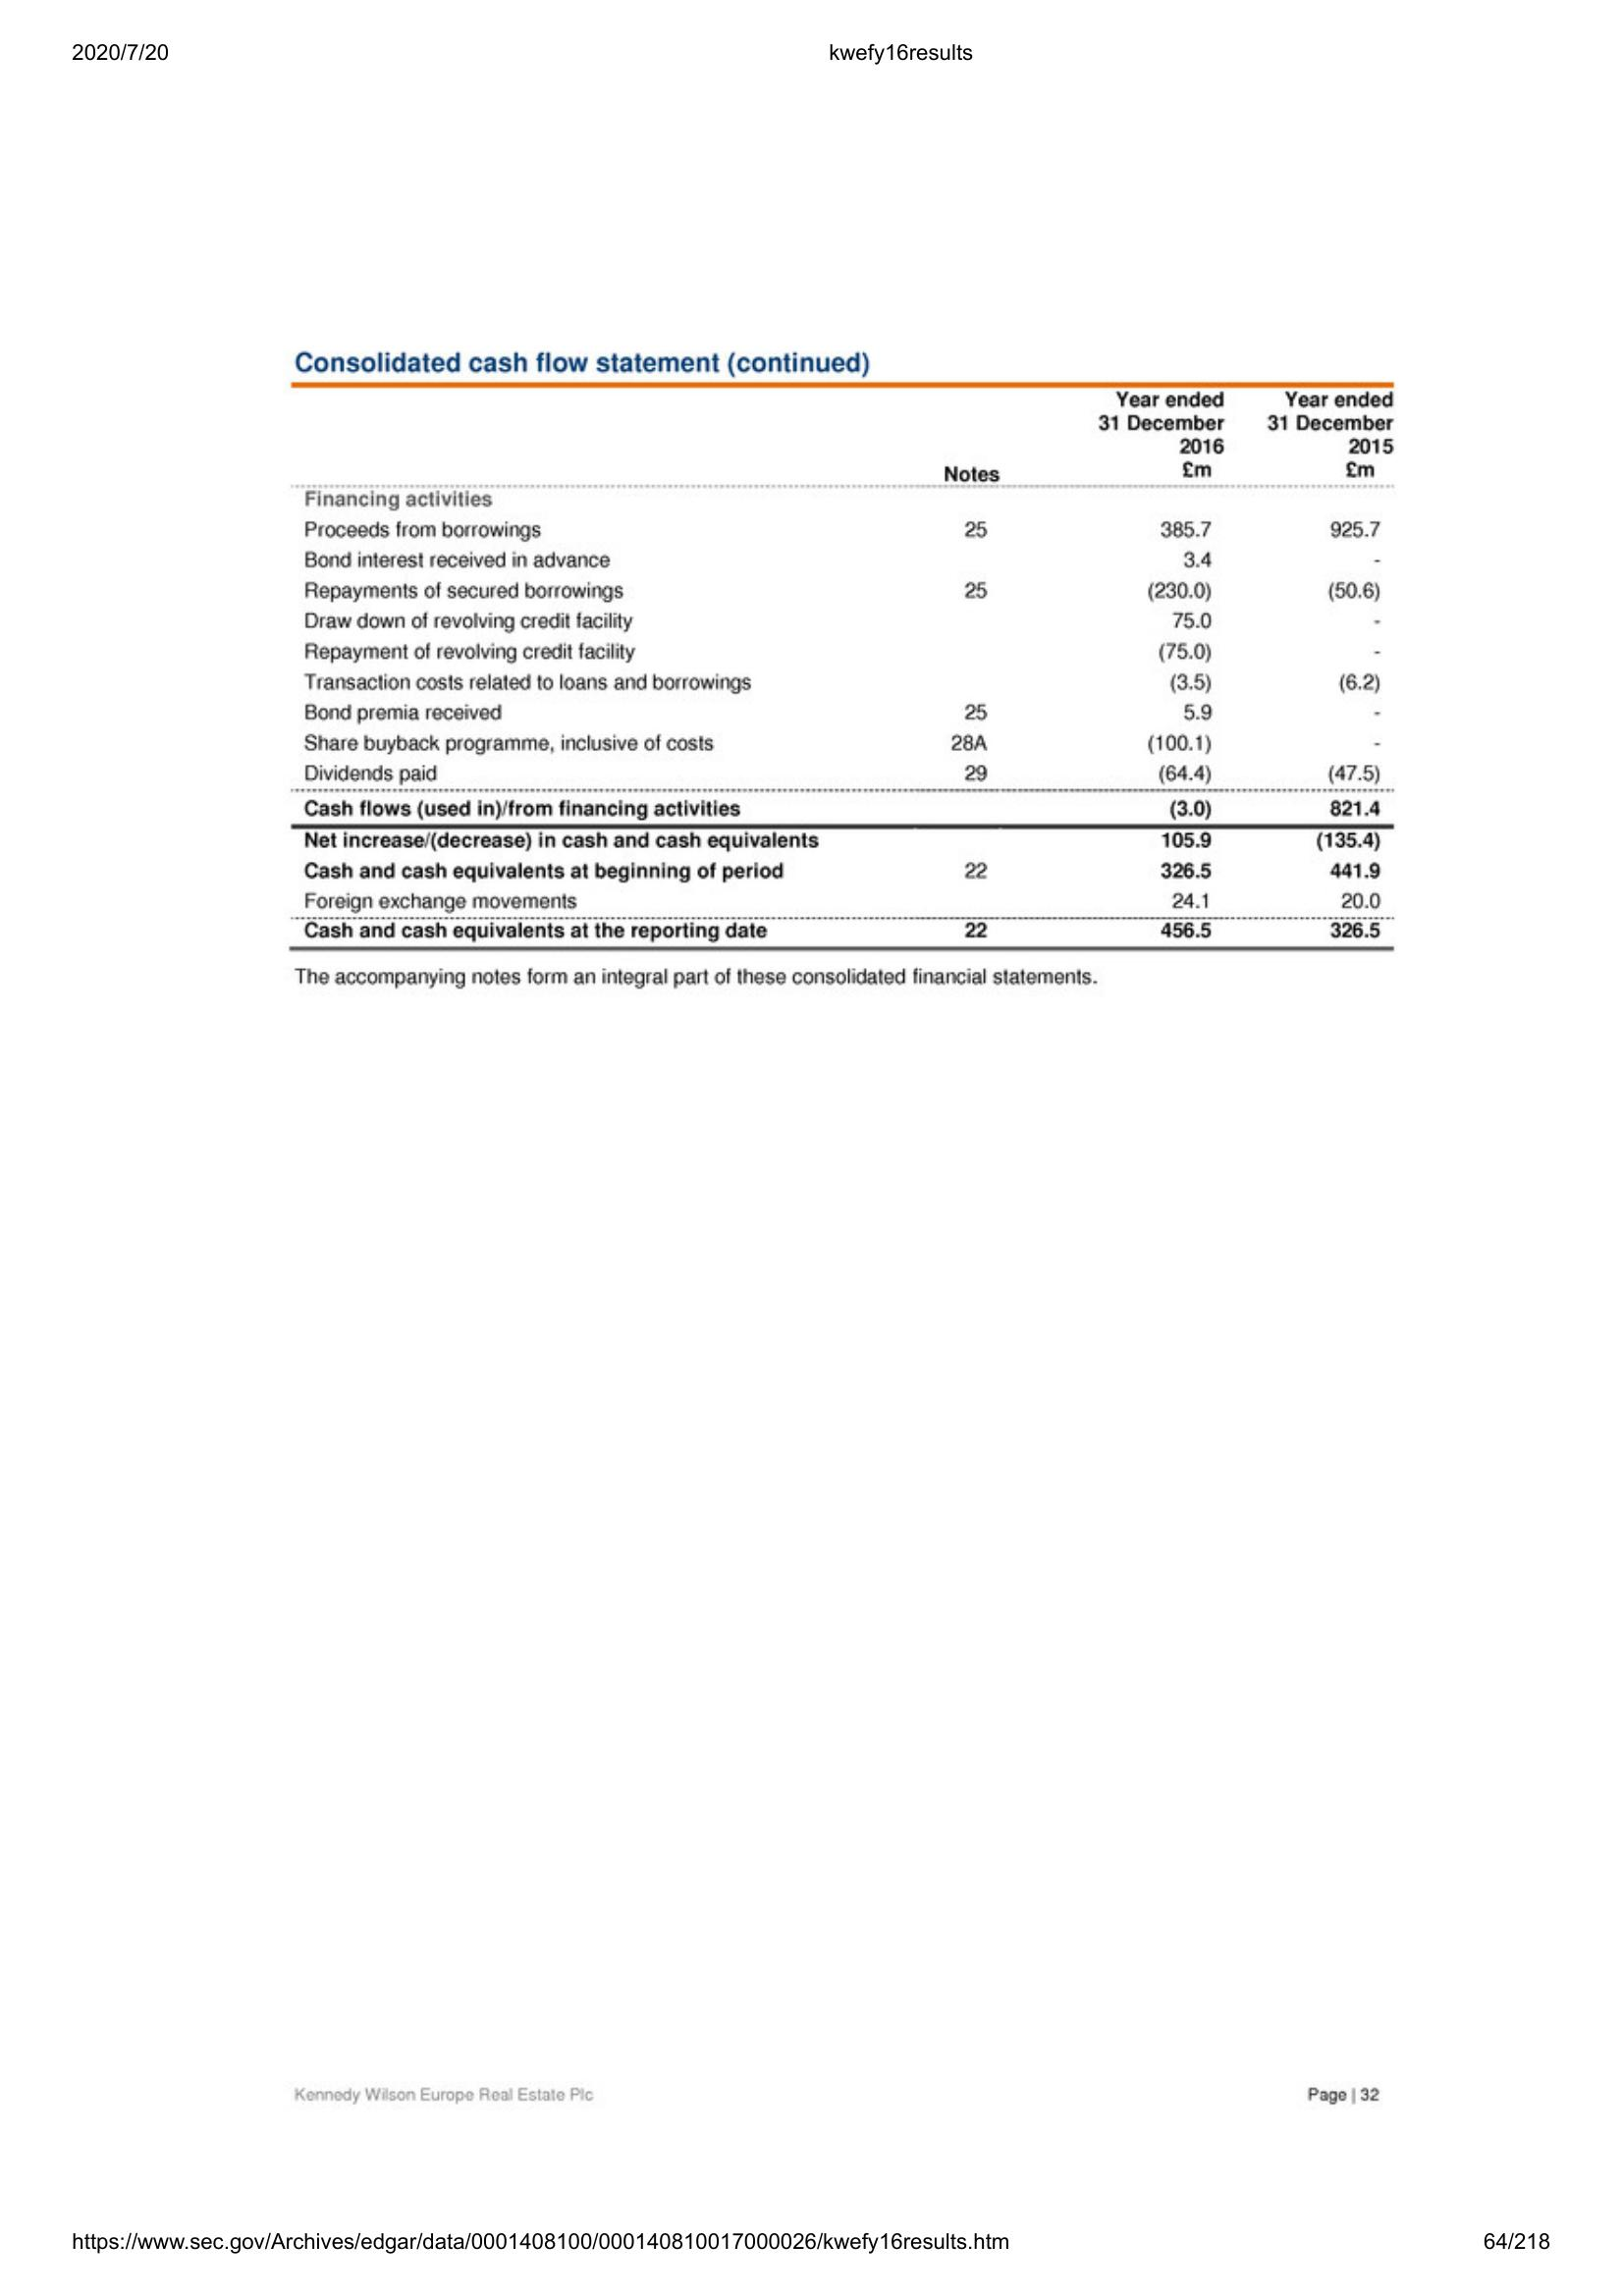table: (283, 370, 1400, 960)
